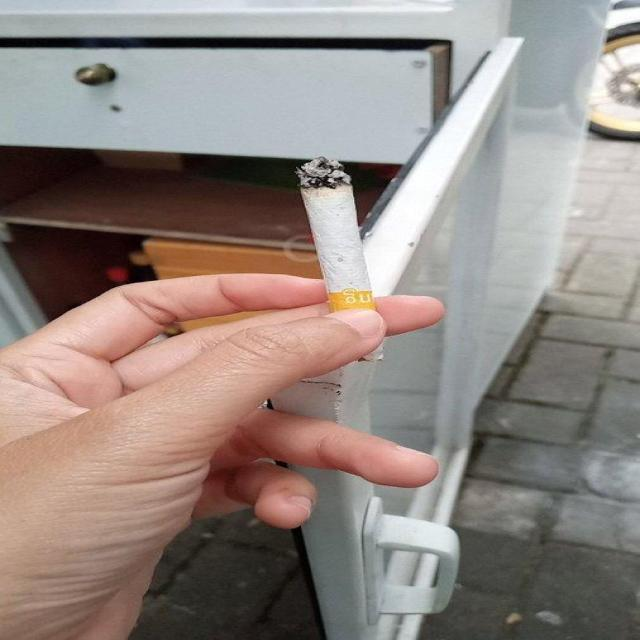rokok: (294, 148, 386, 366)
